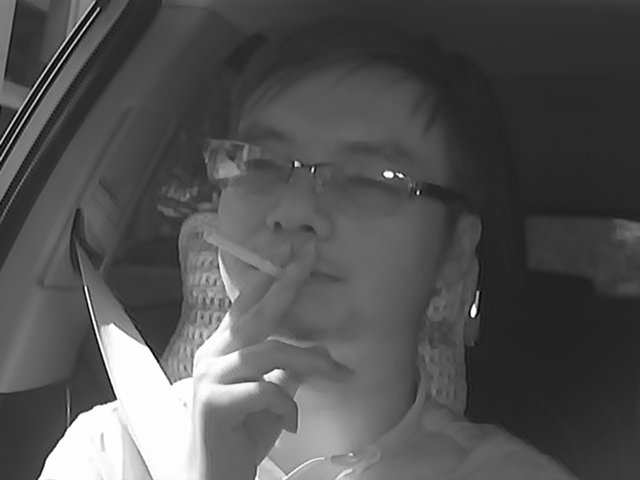hand: (190, 244, 353, 447)
